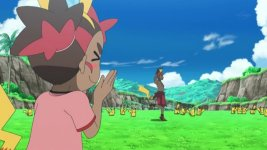pikachu: (103, 106, 117, 118), (130, 106, 140, 121), (171, 103, 181, 116), (179, 104, 187, 120), (197, 105, 206, 118), (120, 106, 126, 119), (188, 108, 195, 118)
